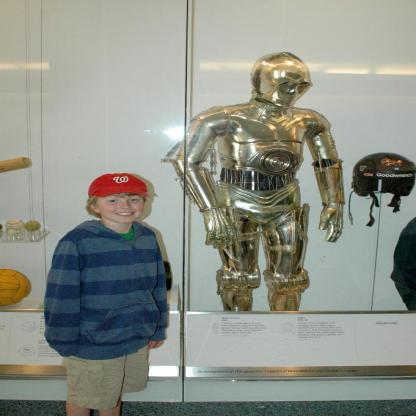Helmet: (344, 153, 416, 228), (254, 53, 306, 108)
